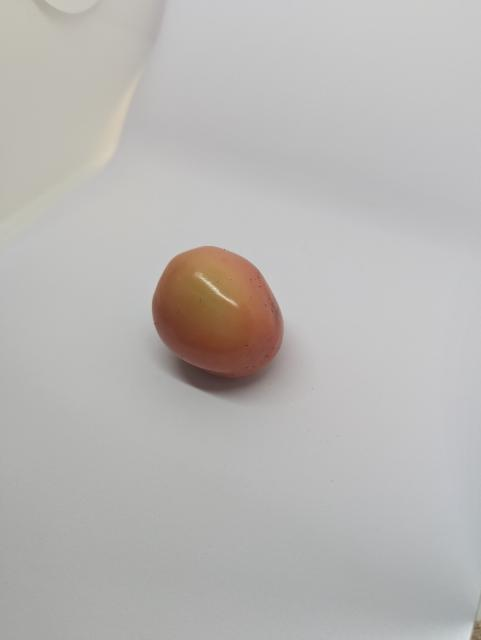turning: (147, 242, 289, 381)
